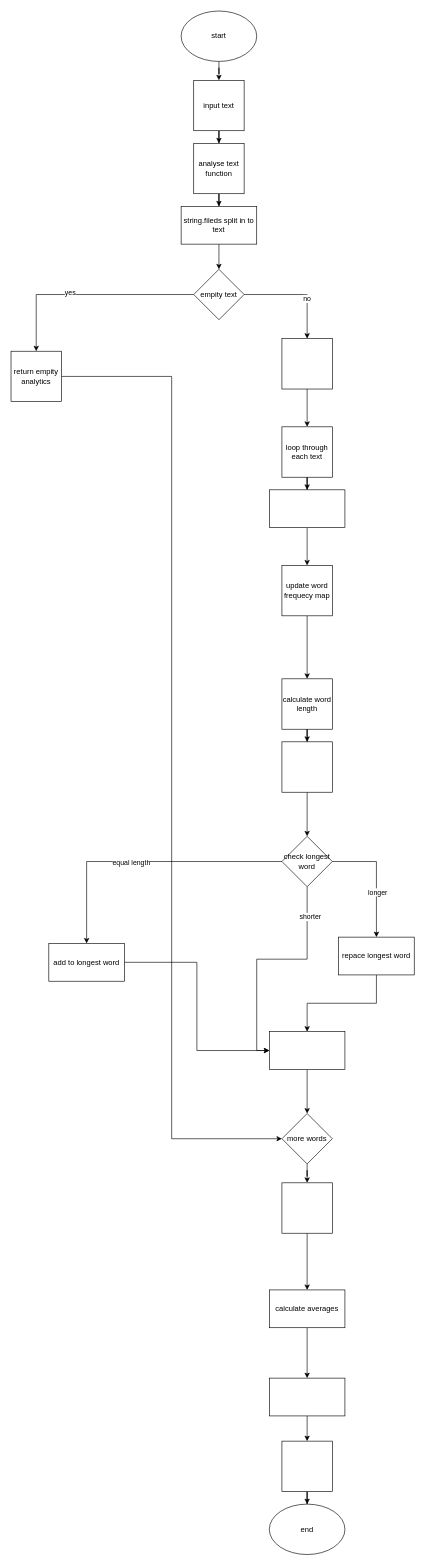
Image size: 425x1566. Some labels were removed from this diagram. The box of each missing label's shape, as (x1, y1, x2, y2) in pixels:
continue: (269, 1031, 345, 1069)
convert to lower case: (269, 489, 345, 528)
final calculation: (281, 1182, 332, 1233)
initialize analytics struct: (281, 338, 332, 389)
json marshalldent: (269, 1377, 345, 1416)
print result: (281, 1440, 332, 1492)
update total letters: (281, 741, 332, 792)
